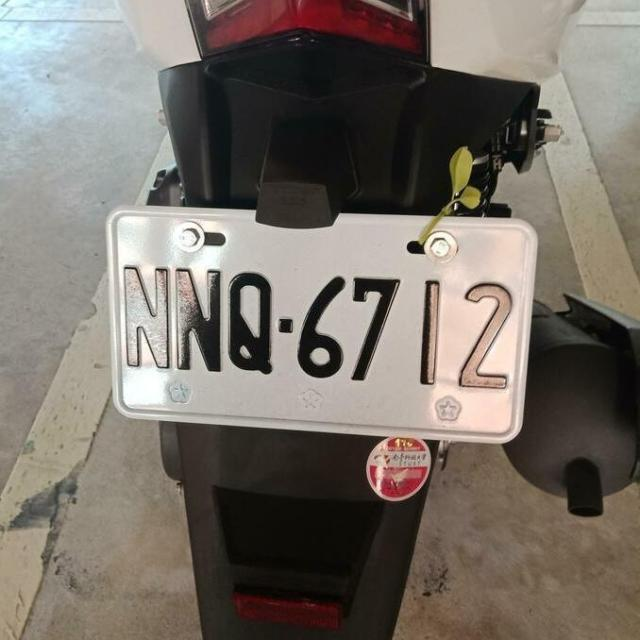W: (93, 187, 544, 451)
